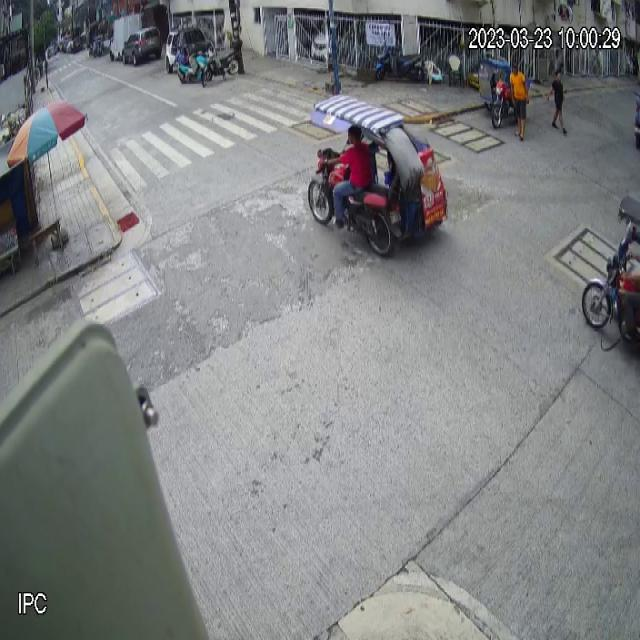Tricycle: (308, 93, 451, 257)
